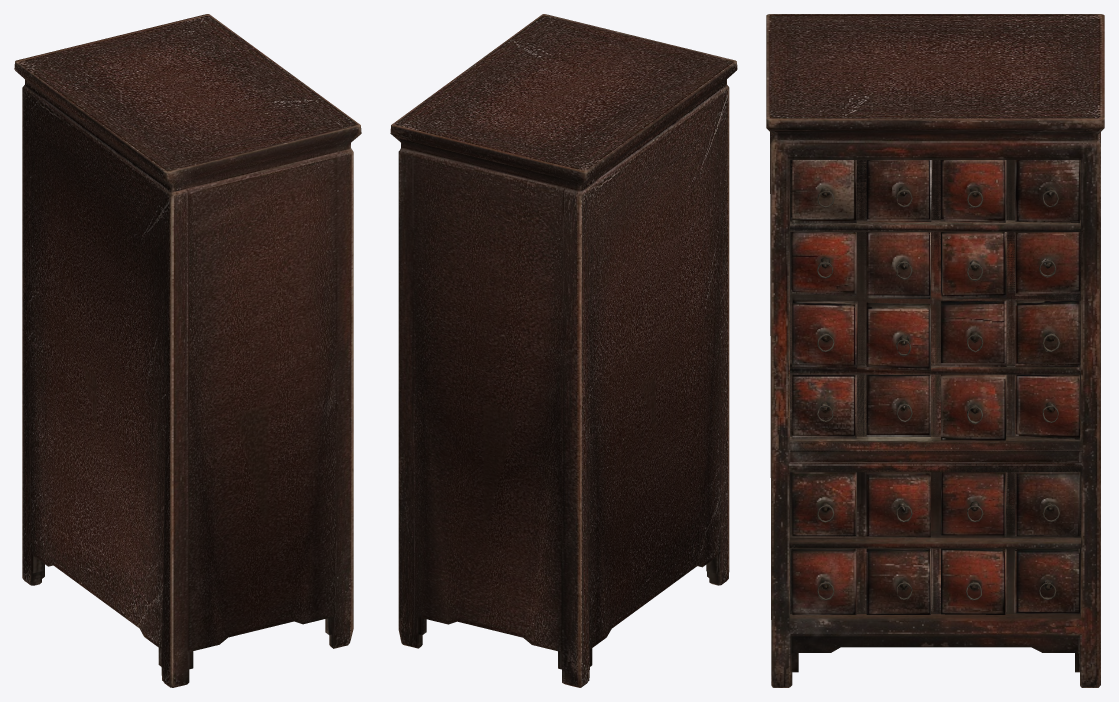
Rendered from tripo_convert_81ff504f-5575-42b5-978b-a044153f9394.fbx.
The picture shows the model from 3 angles, left to right: view 1: azimuth 30°, elevation 25°; view 2: azimuth 150°, elevation 25°; view 3: azimuth 270°, elevation 25°; orthographic projection. The views are drawn at different scales.
Visible parts, largest first — view 1: tripo_node_81ff504f; view 2: tripo_node_81ff504f; view 3: tripo_node_81ff504f.
Part boxes in pixels (left/top/right/bottom): tripo_node_81ff504f: left=14, top=14, right=361, bottom=687; tripo_node_81ff504f: left=390, top=14, right=737, bottom=687; tripo_node_81ff504f: left=766, top=14, right=1104, bottom=687.
Size of the model in its own units: 0.4121 by 0.998 by 0.5332.
Materials: 1 (1 with a texture image).
